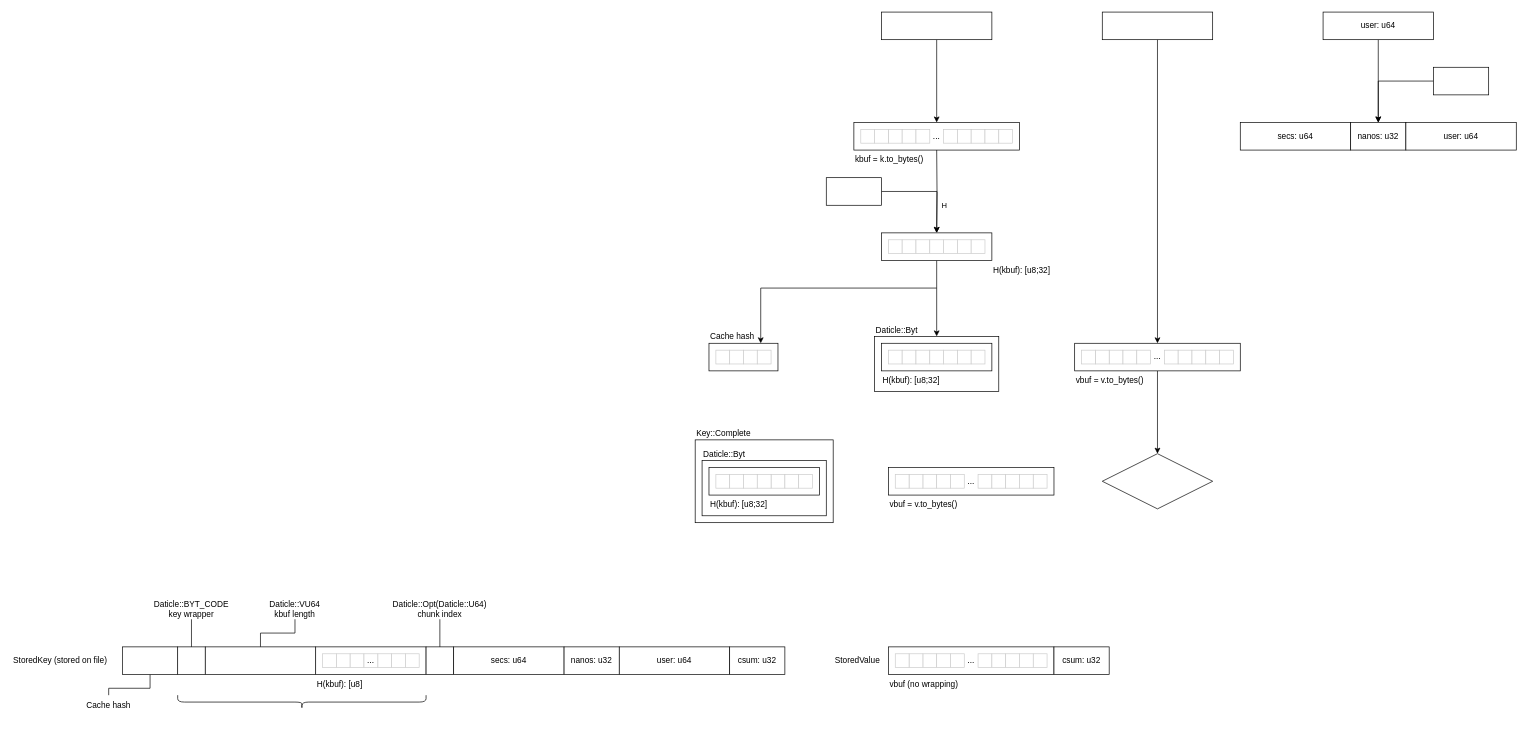
Image size: 1528x749. Some labels were removed from this diagram. The shapes that lost their labels are listed below. From the top down, each one's centre as x and y in pixels, then its label:
At (936,25): "k: Daticle".
At (1157,25): "v: Daticle".
At (1461,81): "Timestamp".
At (853,191): "salt: [u8;32]".
At (1157,481): "vbuf.len() < threshold?".
At (150,660): "u32".
At (191,660): "0x32".
At (260,660): "u64".
At (439,660): "0x50".
At (301,701): "Stored in cache".
